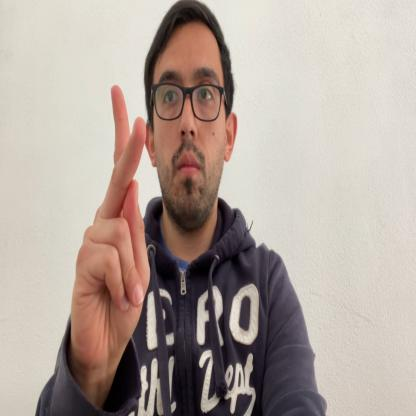P: (70, 84, 152, 378)
